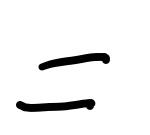eqv: (17, 53, 110, 113)
